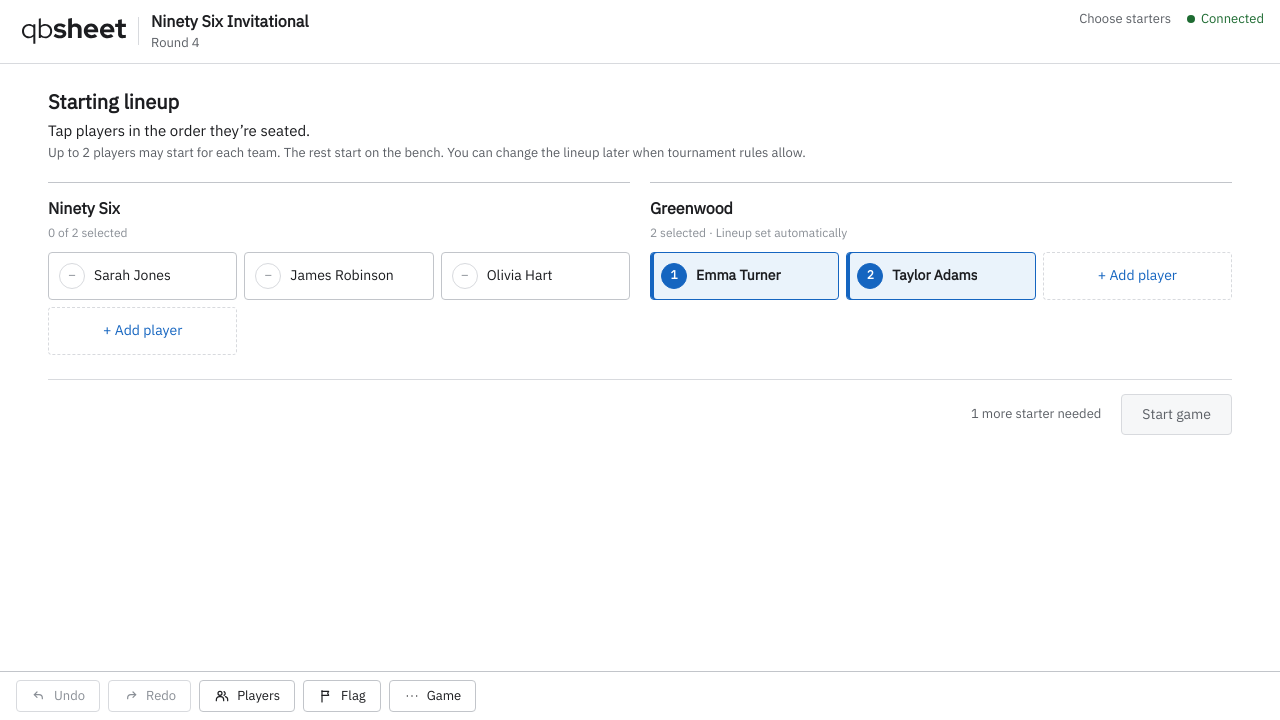
Test: the historical lineup editor › it says Playing and Bench, not Starting and Start
The image size is (1280, 720).
Click the button "– Sarah Jones" at (143, 276), box [48,252,237,300]
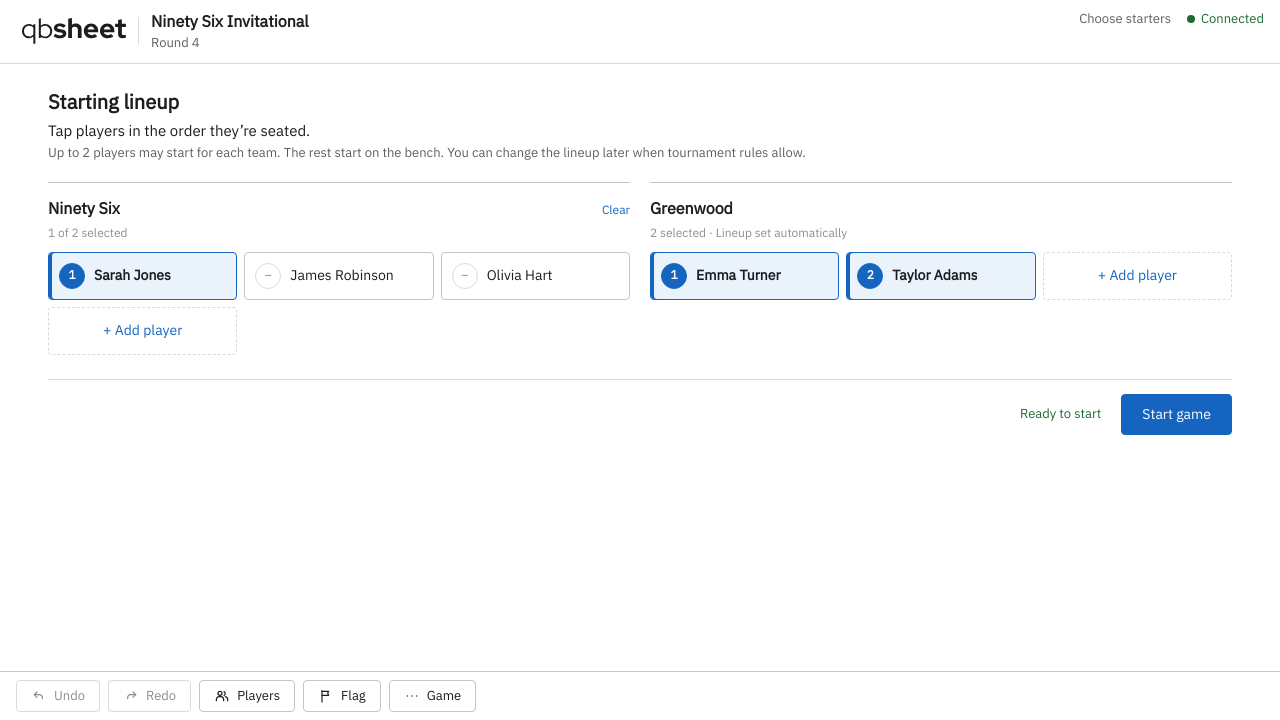
Click the button "– James Robinson" at (339, 276), box [244,252,434,300]
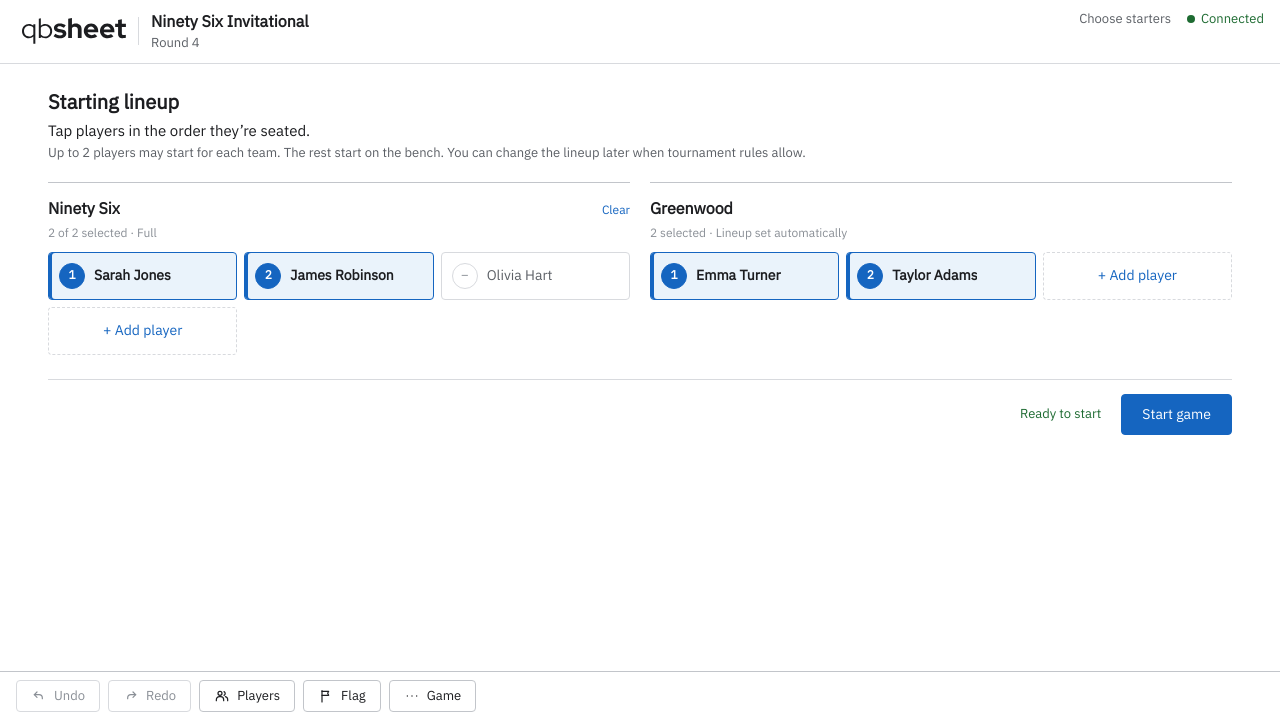
Click the button "Start game" at (1177, 414), box [1121,394,1232,435]
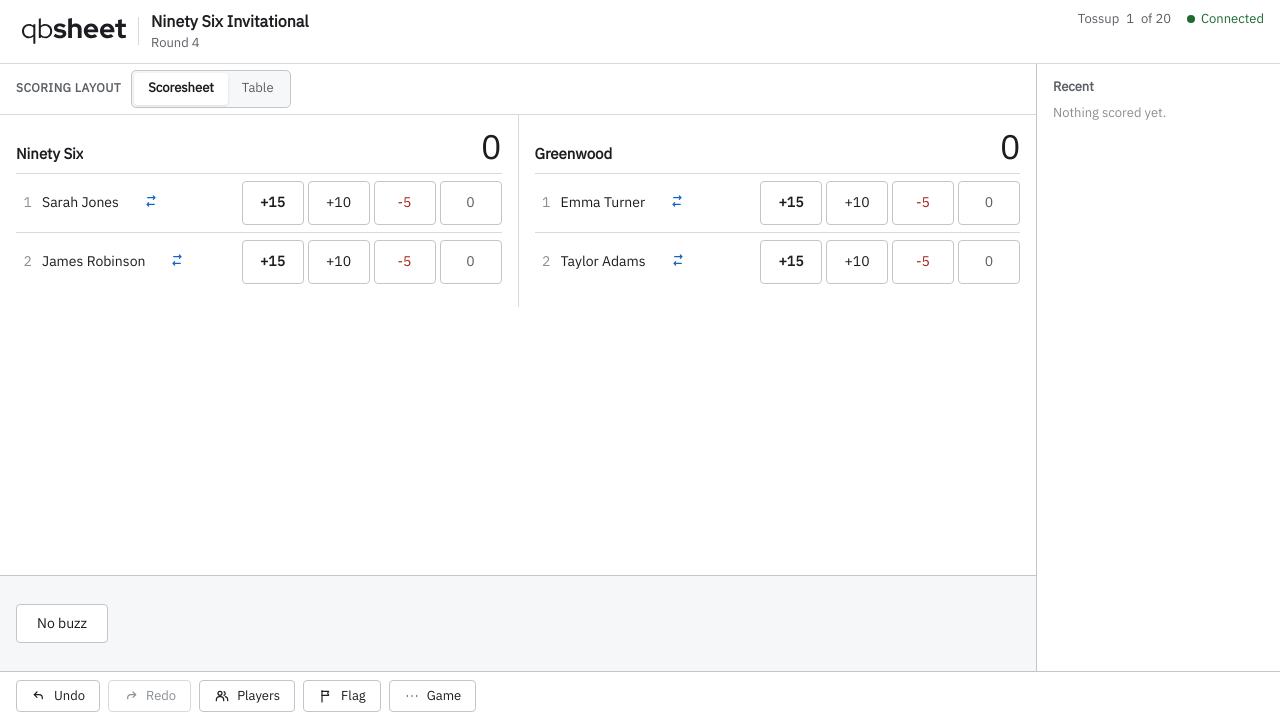
Click the button "Game" at (432, 696), box [389,680,476,712]
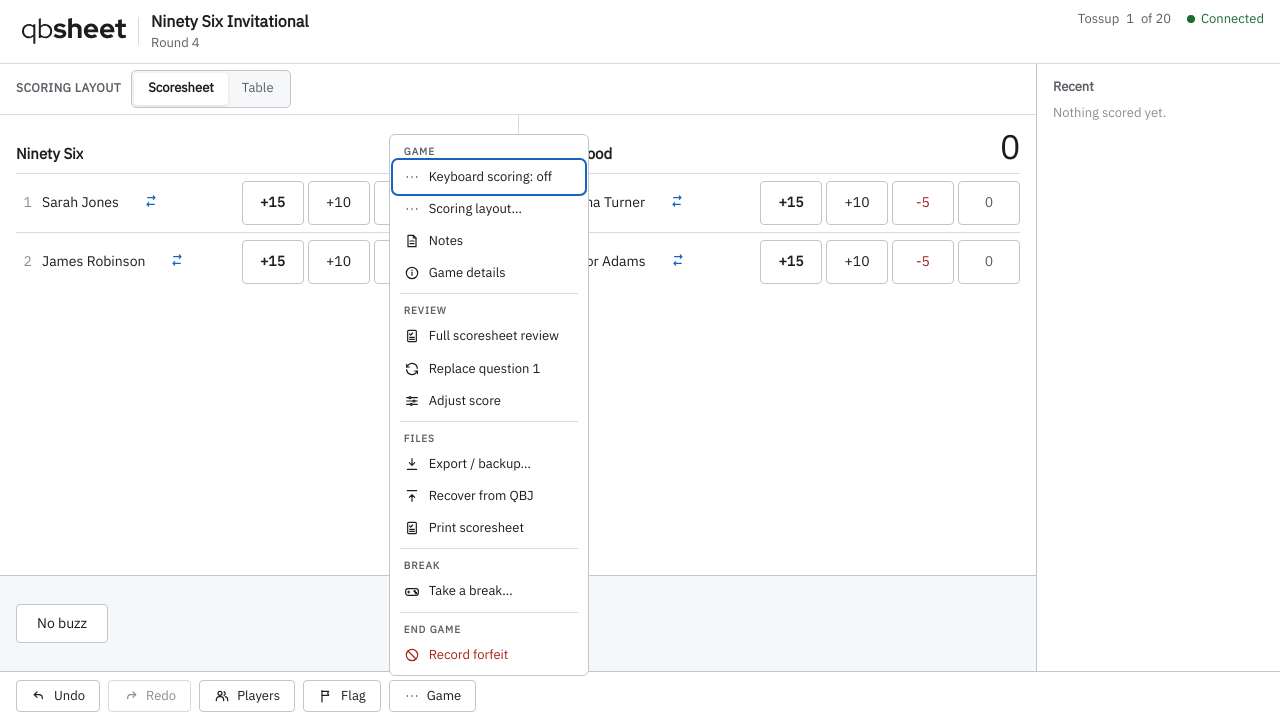
Click the menu item "Full scoresheet review" at (489, 336), box [394,320,584,352]
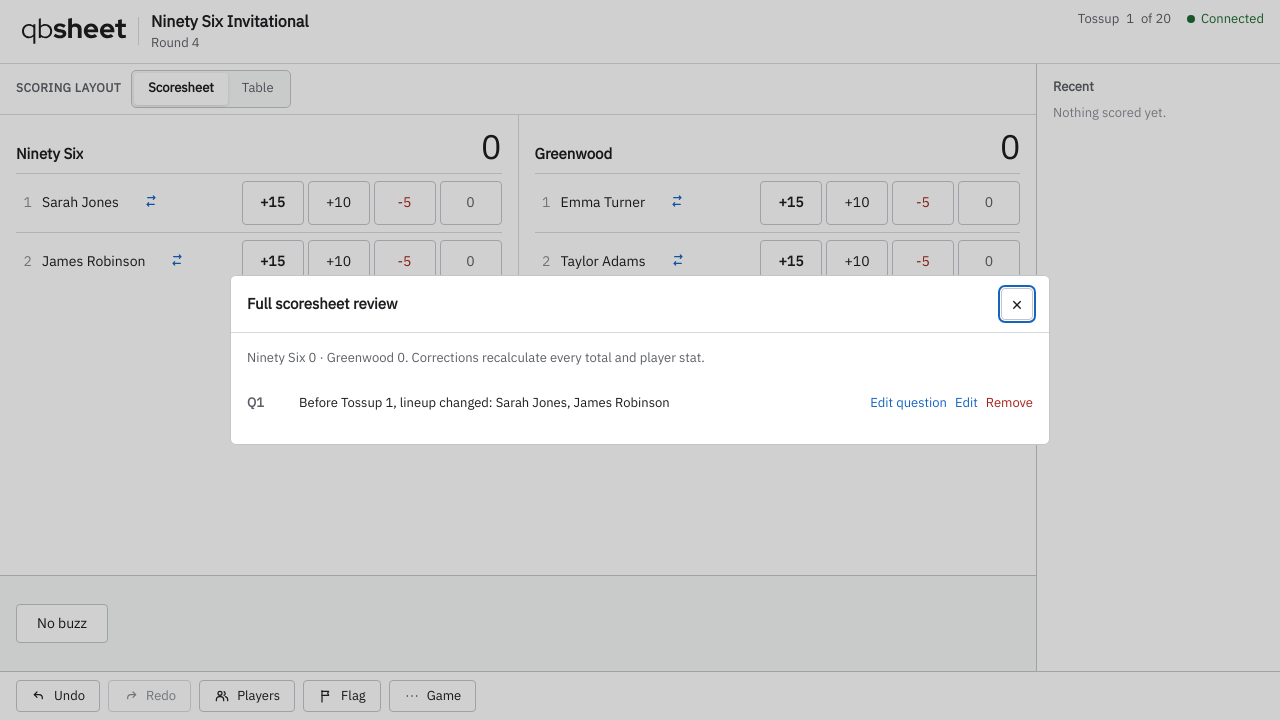
Click the button "Edit" at (966, 403), box [955,394,978,412]
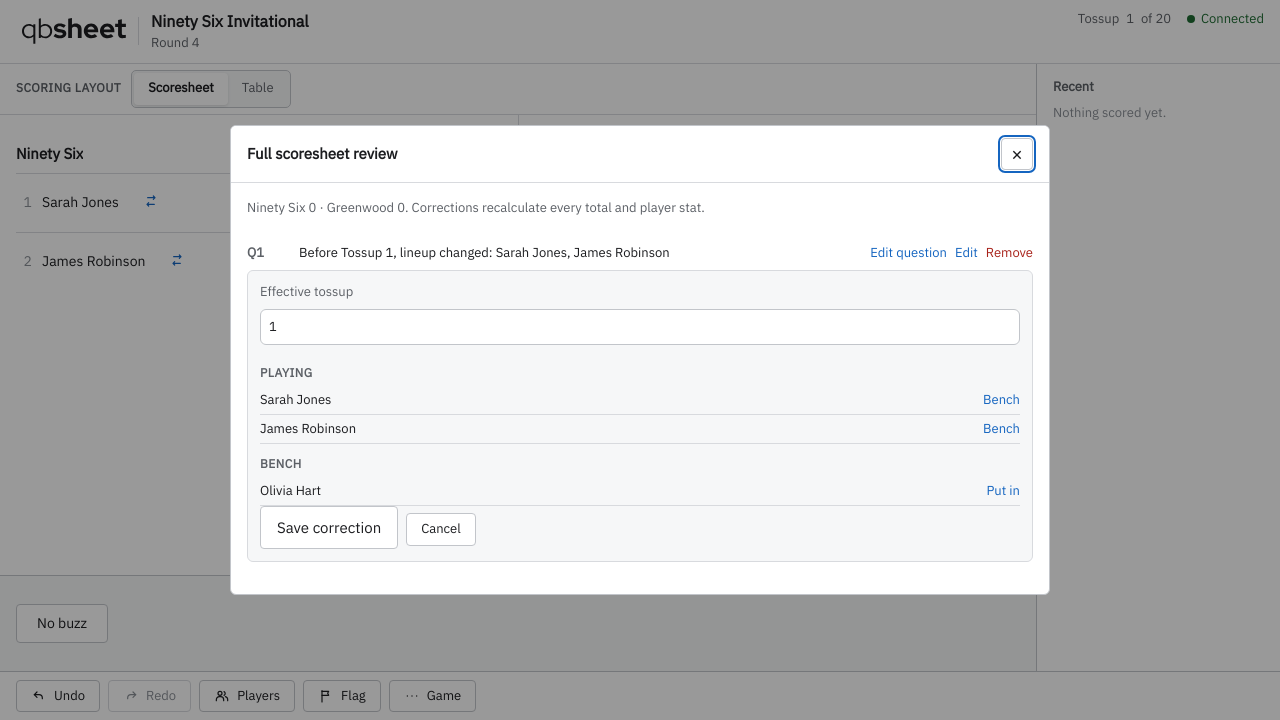
expect the heading "Start " is not shown: met
expect the button with aria-label "Bench Sarah Jones" is shown: met, box [983,391,1020,409]
expect the button with aria-label "Put Olivia Hart in" is shown: met, box [986,482,1020,500]
